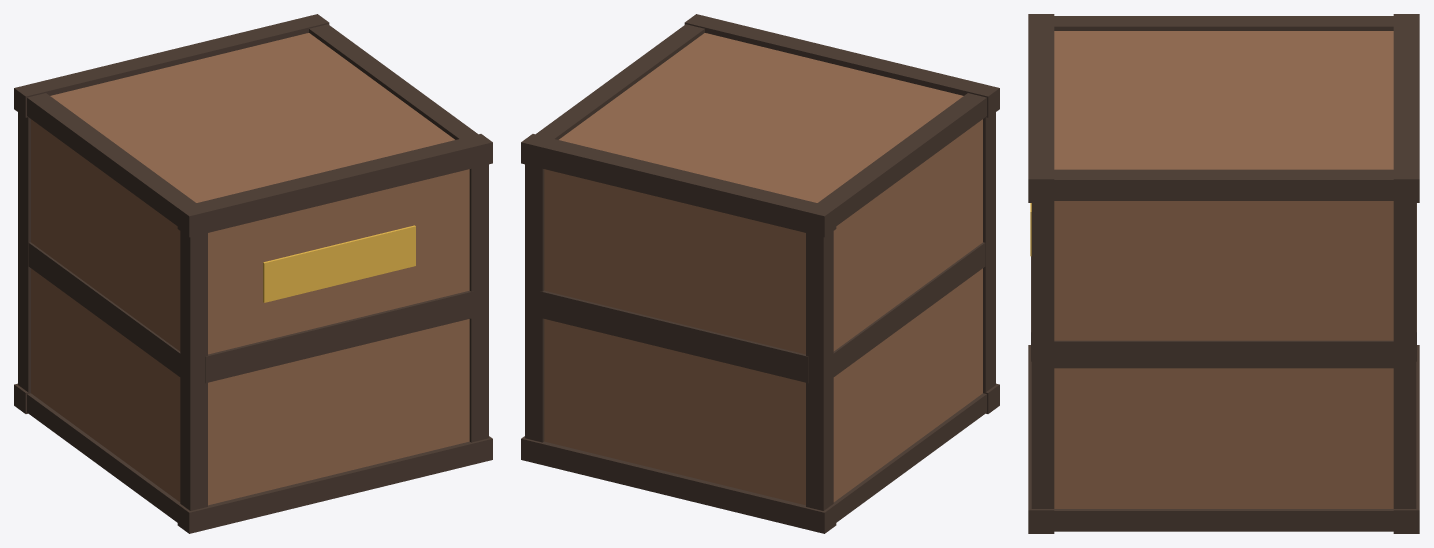
Rendered from crate.glb.
The picture shows the model from 3 angles, left to right: view 1: azimuth 30°, elevation 25°; view 2: azimuth 150°, elevation 25°; view 3: azimuth 270°, elevation 25°; orthographic projection. The views are drawn at different scales.
Parts seen in each view (by area): view 1: crate_mesh; view 2: crate_mesh; view 3: crate_mesh.
Boxes of the visible parts, x1,y1,x2,y2 form: crate_mesh: (14,14,492,533); crate_mesh: (521,14,999,533); crate_mesh: (1028,14,1419,533).
Size of the model in its own units: 1.2 by 1.2 by 1.2.
1 material, 1 textured.
